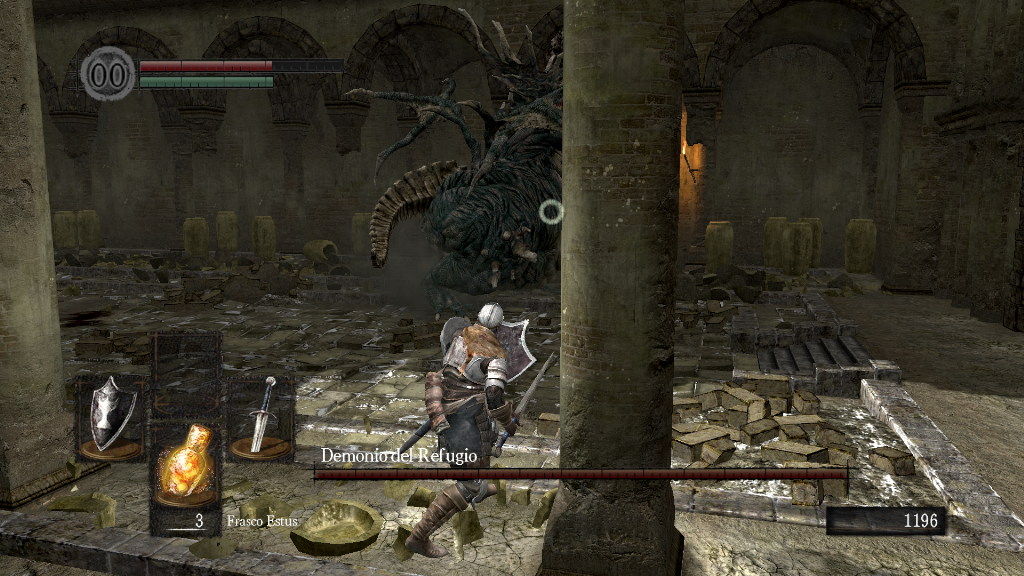asylumDemon: (339, 1, 565, 296)
bossHP: (314, 469, 847, 479)
health: (138, 58, 343, 71)
humanity: (80, 45, 136, 102)
player: (401, 302, 557, 560)
souls: (825, 506, 945, 536)
stamina: (138, 74, 274, 88)
